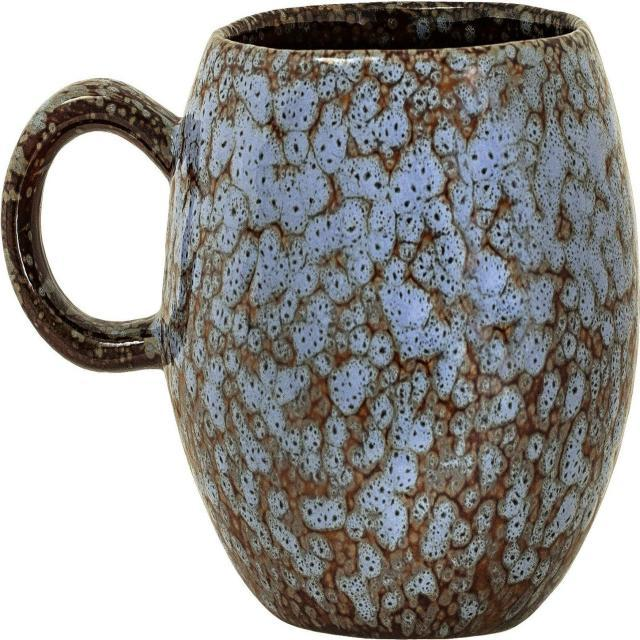Coffee Mug: (1, 2, 640, 635)
